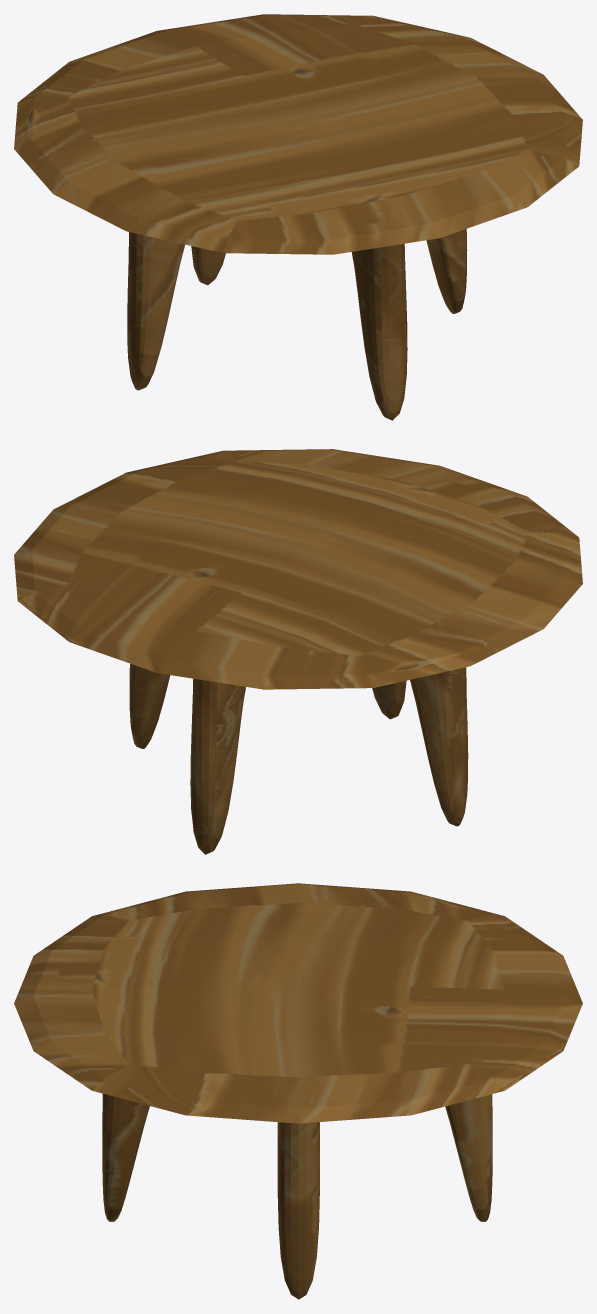
The model's file is table.obj.
The picture shows the model from 3 angles, top to bottom: view 1: azimuth 30°, elevation 25°; view 2: azimuth 150°, elevation 25°; view 3: azimuth 270°, elevation 25°; orthographic projection.
Visible parts, largest first — view 1: Cube; view 2: Cube; view 3: Cube.
Part boxes in pixels (x1=…): Cube: x1=14, y1=14, x2=582, y2=420; Cube: x1=14, y1=449, x2=582, y2=854; Cube: x1=14, y1=883, x2=582, y2=1299.
Bounding box in the file's own units: 3.36 × 1.55 × 3.36.
